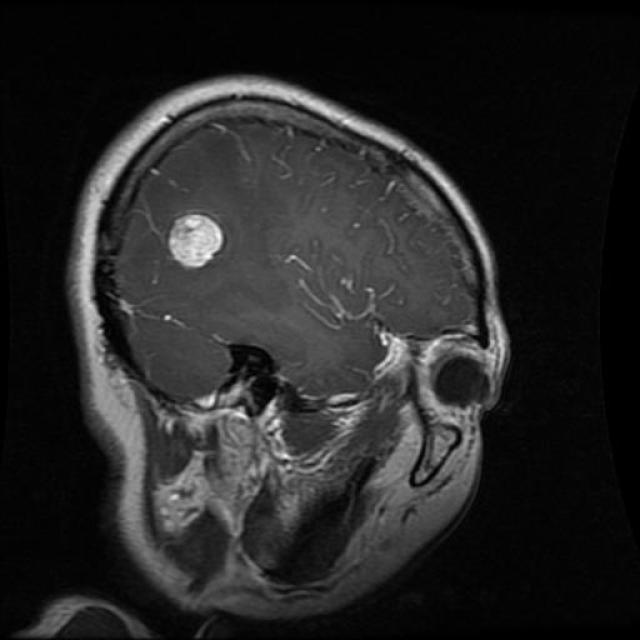glioma: (160, 208, 231, 276)
